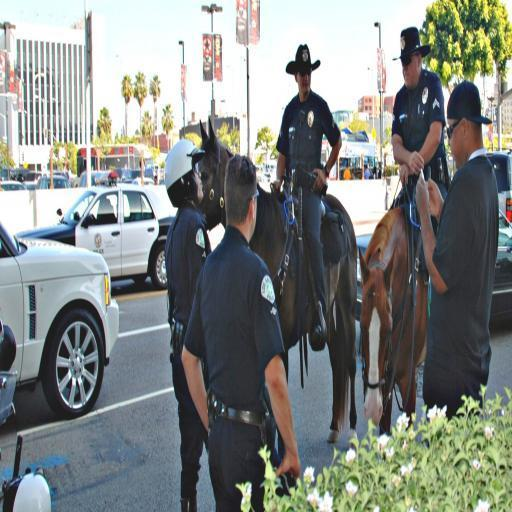horse: (199, 116, 358, 443), (359, 202, 433, 440)
